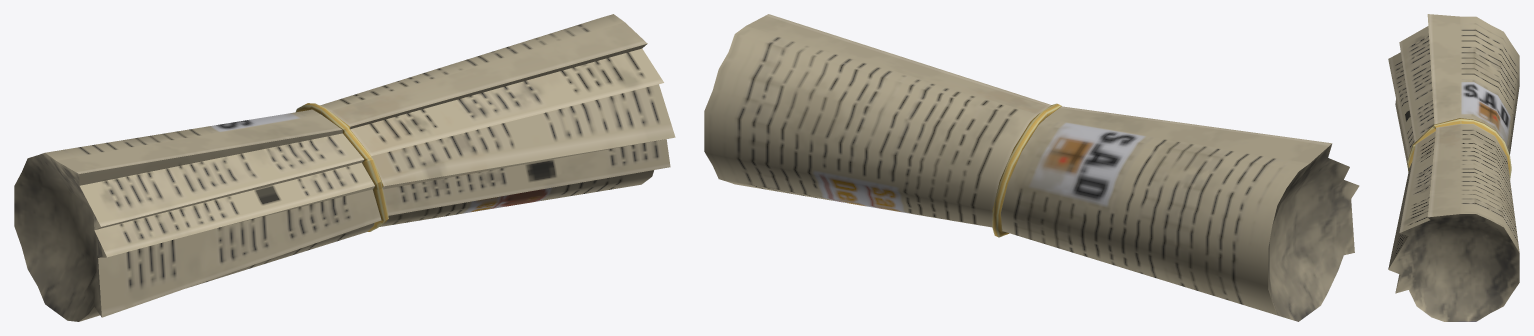
The model's file is Mail.fbx_Newspaper.fbx.
The picture shows the model from 3 angles, left to right: view 1: azimuth 30°, elevation 25°; view 2: azimuth 150°, elevation 25°; view 3: azimuth 270°, elevation 25°; orthographic projection. The views are drawn at different scales.
Visible parts, largest first — view 1: Newspaper; view 2: Newspaper; view 3: Newspaper.
Part boxes in pixels (x1,y1,x2,y2): Newspaper: (14, 14, 675, 321); Newspaper: (704, 14, 1359, 321); Newspaper: (1388, 14, 1519, 321).
Bounding box in the file's own units: 36.67 × 9.56 × 10.32.
1 material, 1 textured.
